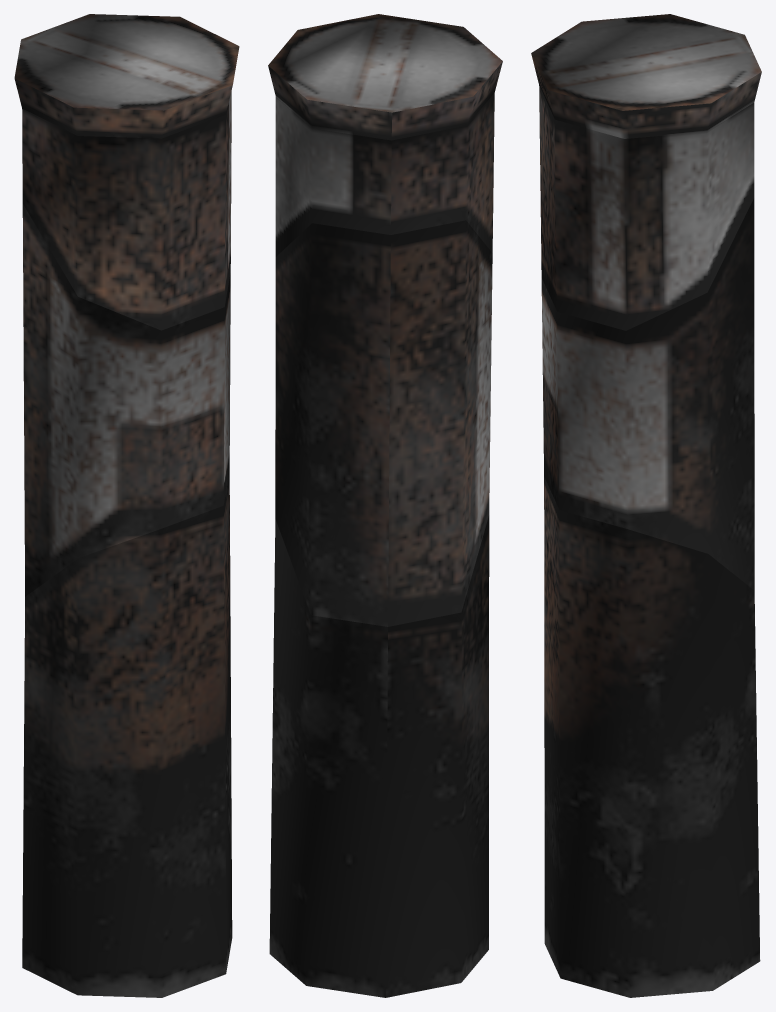
File: Rocket_generator.fbx
3 renders of one model, left to right at view 1: azimuth 30°, elevation 25°; view 2: azimuth 150°, elevation 25°; view 3: azimuth 270°, elevation 25°, orthographic.
Visible parts, largest first — view 1: Rocket_generator; view 2: Rocket_generator; view 3: Rocket_generator.
Boxes of the visible parts, x1,y1,x2,y2 form: Rocket_generator: [14, 14, 239, 997]; Rocket_generator: [268, 14, 502, 997]; Rocket_generator: [531, 14, 761, 997].
Size of the model in its own units: 18.6 by 79.13 by 18.6.
